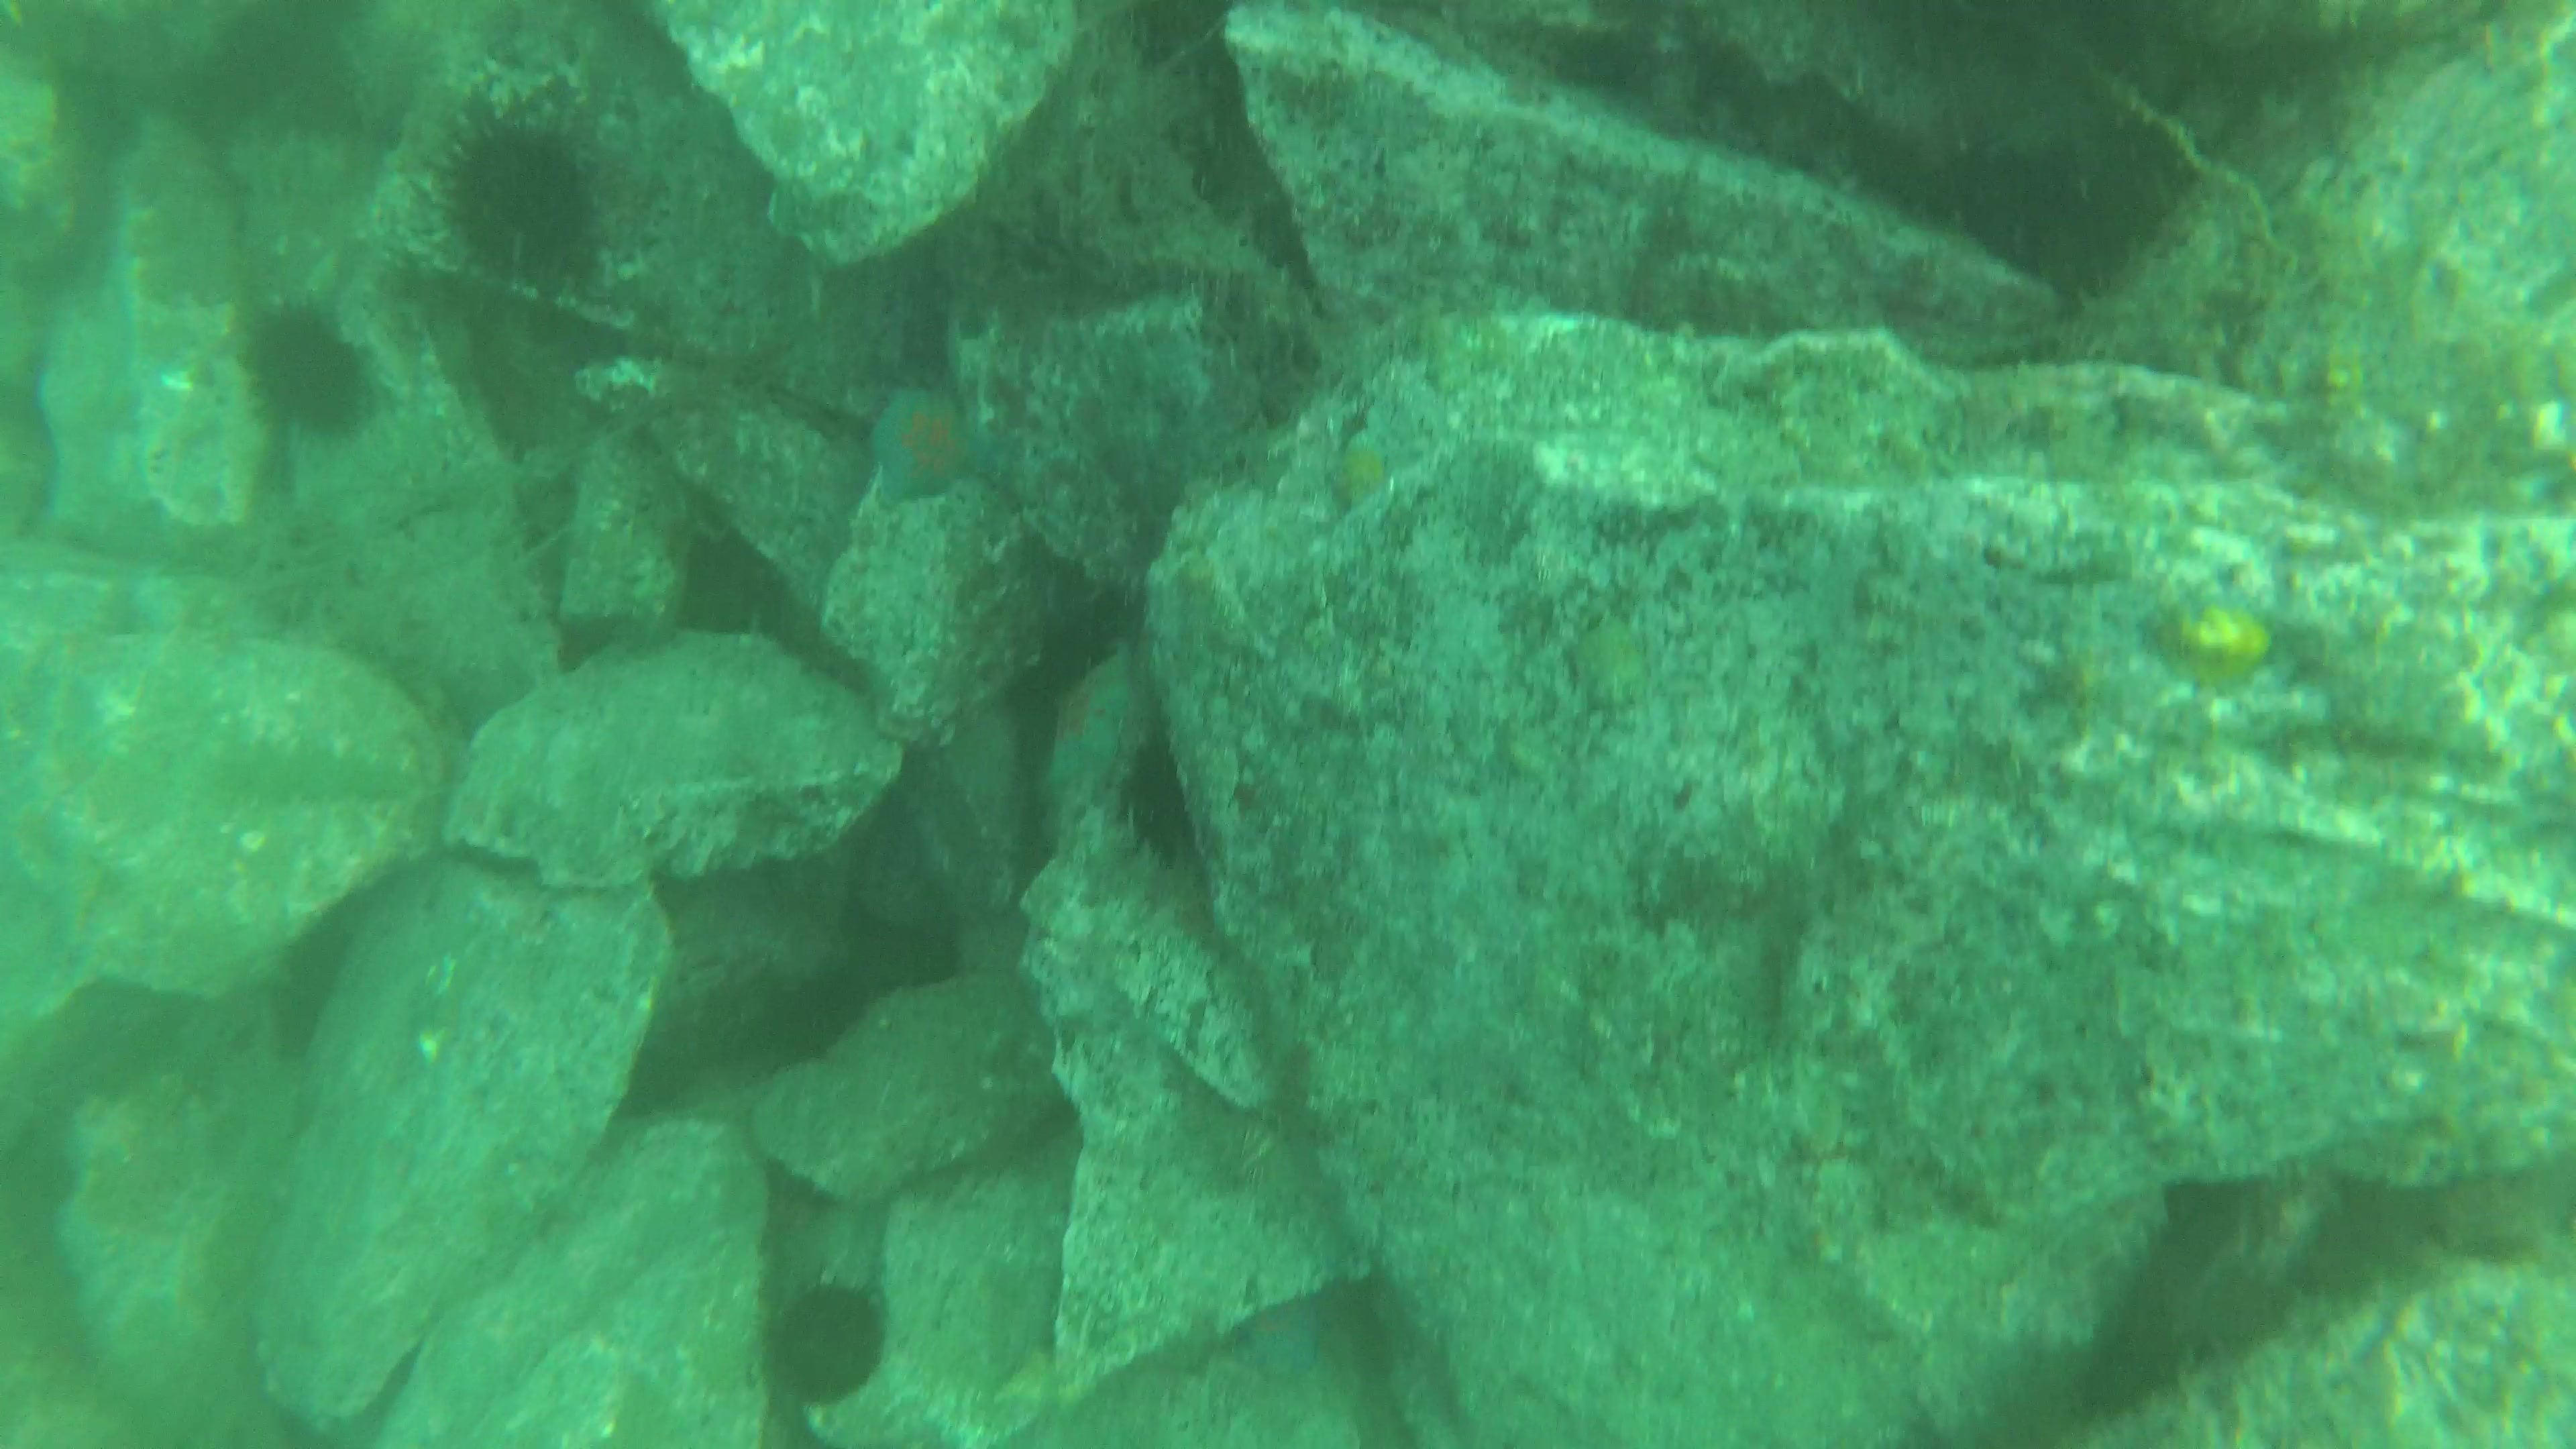echinus: (391, 99, 642, 311), (212, 292, 403, 465), (757, 1265, 897, 1414)
starfish: (1035, 637, 1138, 821), (855, 387, 993, 517), (1311, 425, 1403, 517)
